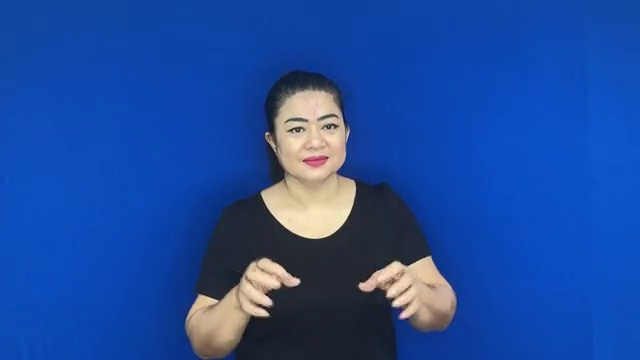egg: (231, 249, 428, 327)
